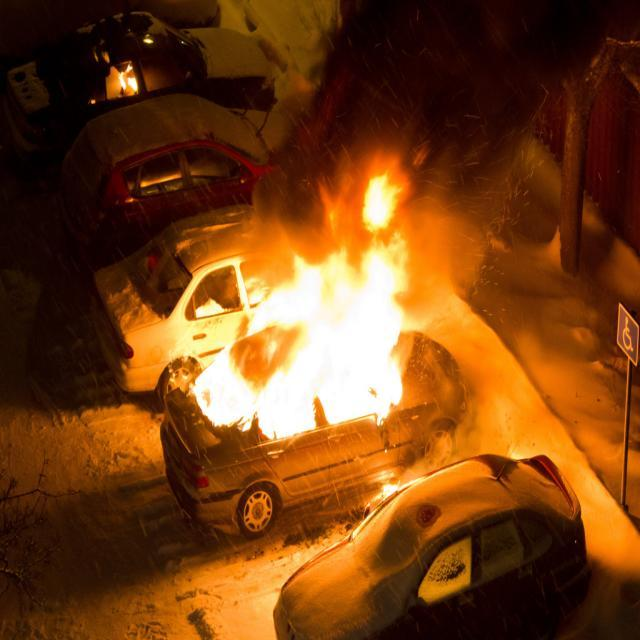Fire: (222, 295, 406, 412)
